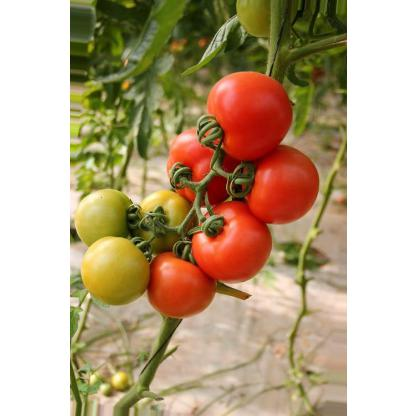tomato: (196, 63, 300, 168), (161, 116, 262, 208), (228, 135, 326, 229), (125, 183, 213, 271), (190, 202, 280, 288), (74, 232, 164, 309), (142, 246, 222, 328), (68, 183, 146, 257)
